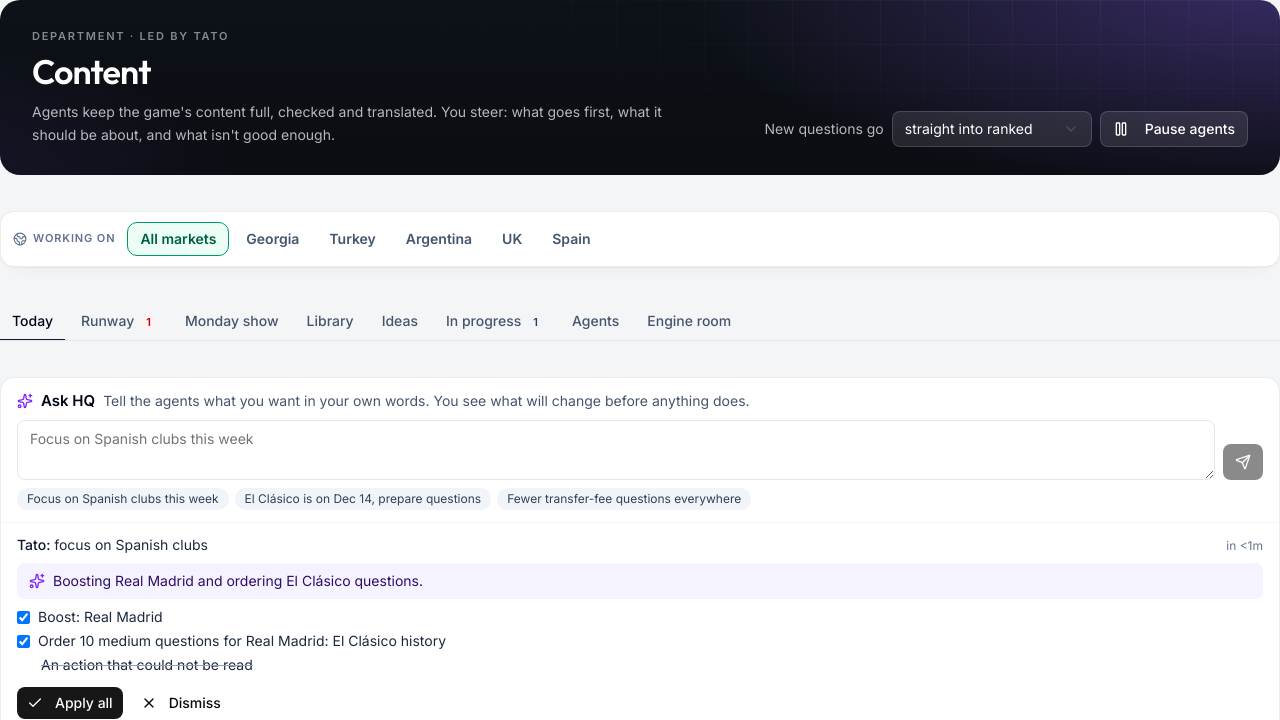
Test: counts what is urgent on the tabs and opens the full runway
Expected: the tab "In progress1" is shown, [434,302,556,340]
What coordinates should you click on to do the following:
click the tab "Runway1"
I would click on:
 (119, 322)
Its box is [69,302,169,340].
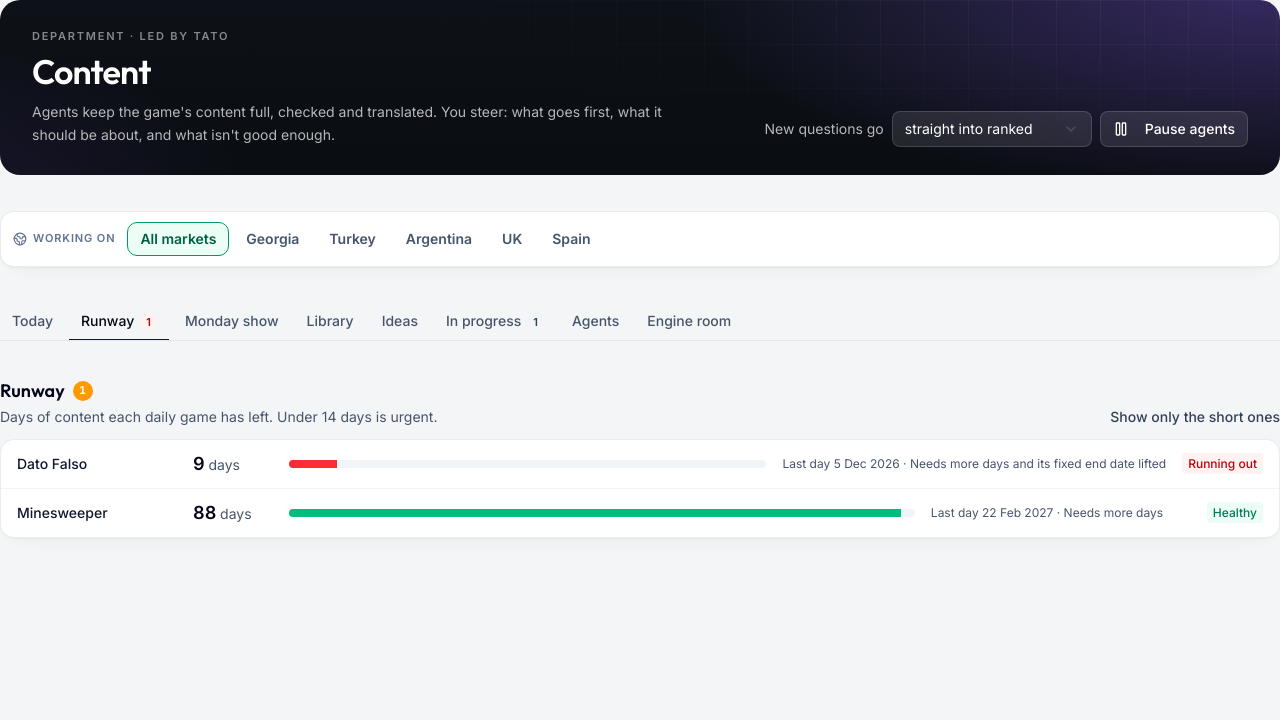
Expected: the text "Minesweeper" is shown, [17,504,108,520]
